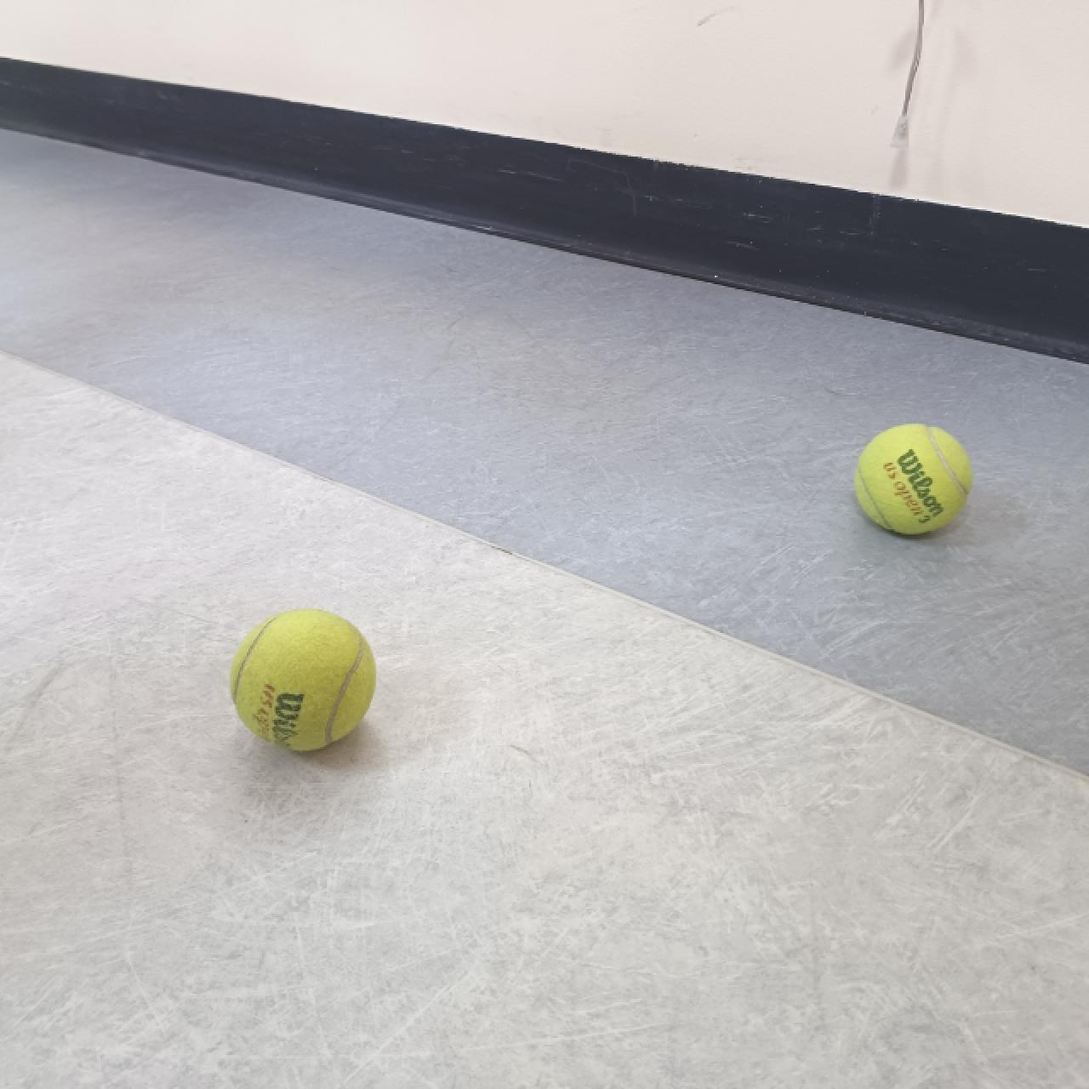tennis-ball: (233, 609, 377, 757), (856, 424, 974, 541), (1087, 353, 1089, 354)
